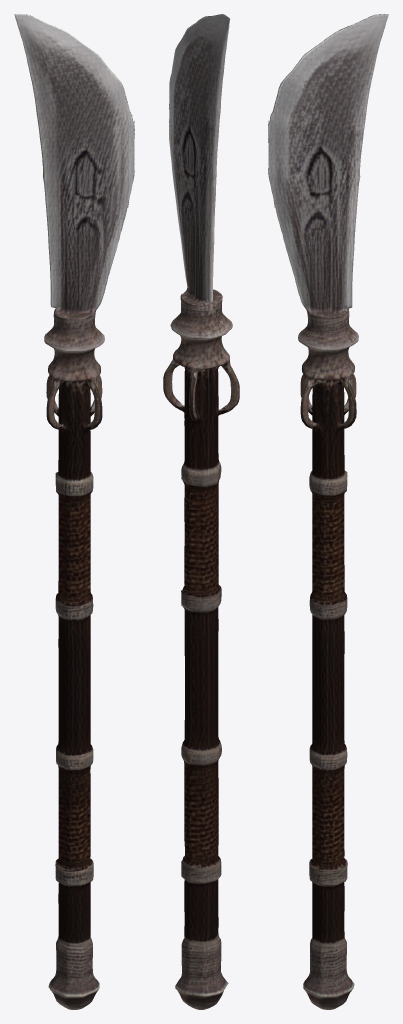
Rendered from look-weapon-t3-rodin.glb.
The picture shows the model from 3 angles, left to right: view 1: azimuth 90°, elevation 25°; view 2: azimuth 210°, elevation 25°; view 3: azimuth 270°, elevation 25°; orthographic projection.
Parts seen in each view (by area): view 1: model; view 2: model; view 3: model.
Boxes of the visible parts, <box> form: model: <box>14,14,134,1009</box>; model: <box>163,14,239,1009</box>; model: <box>268,14,388,1009</box>.
Size of the model in its own units: 0.105 by 1.9 by 0.2083.
1 material, 1 textured.
